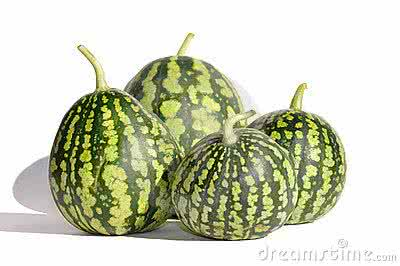watermelon: (48, 84, 175, 235), (119, 26, 248, 161), (176, 118, 295, 238), (248, 93, 351, 225)
